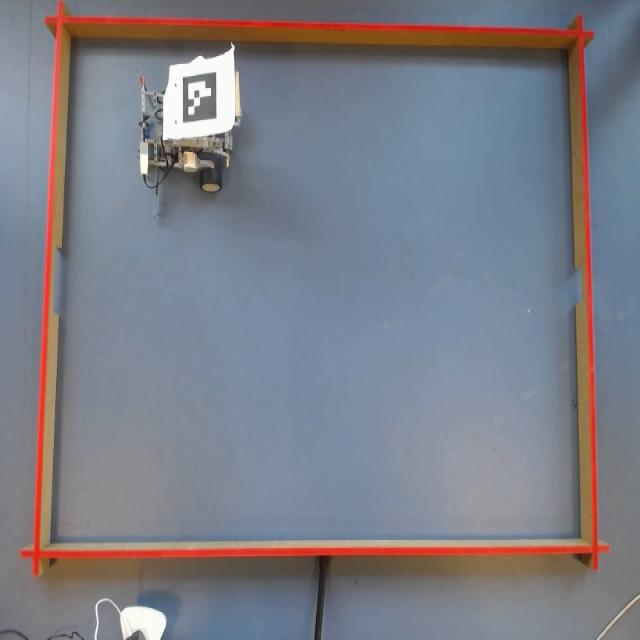ev3: (142, 48, 242, 195)
